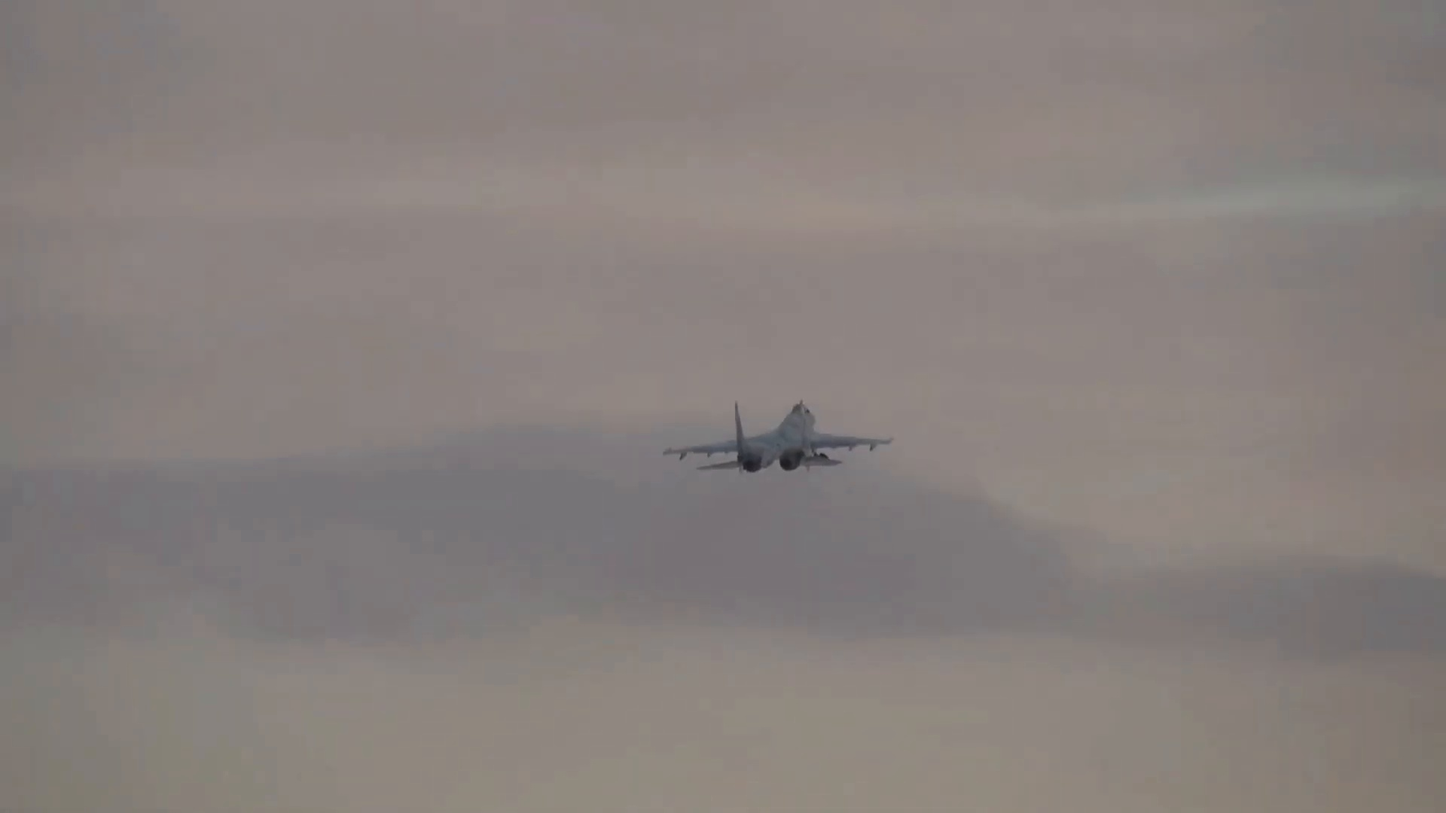Su35: (661, 394, 892, 473)
